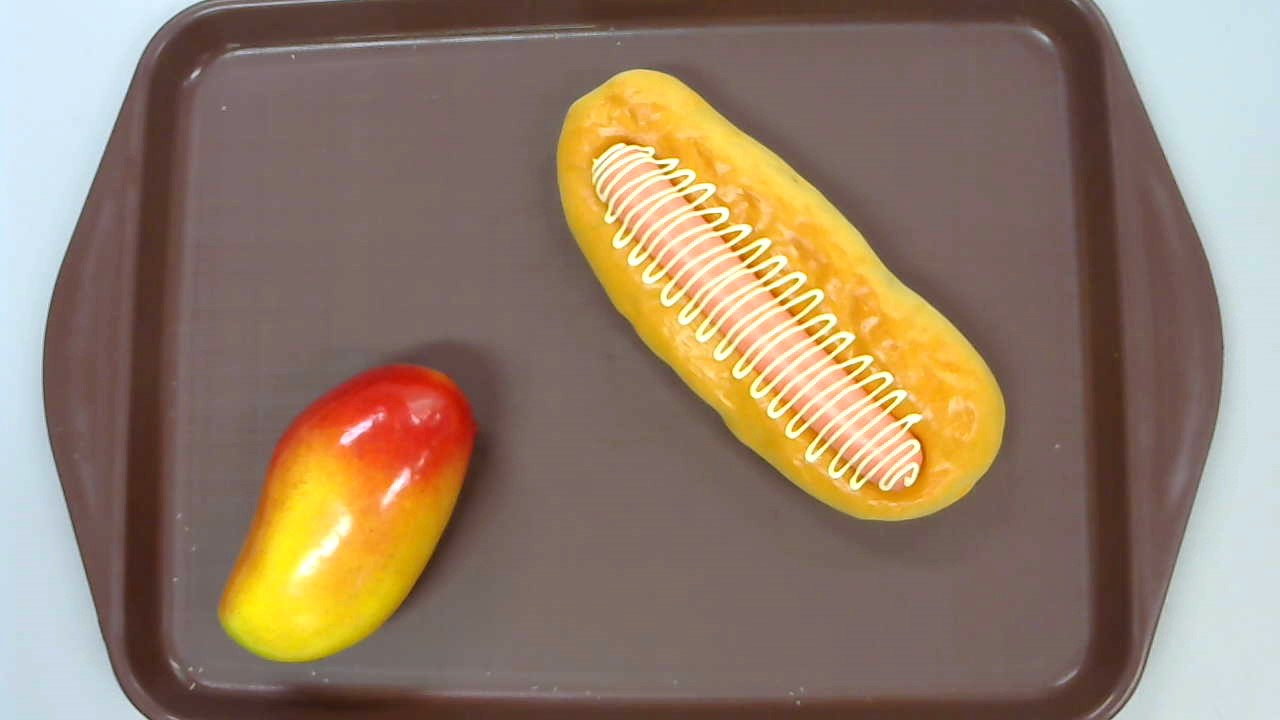hot dog: (557, 63, 1005, 523)
red mango: (216, 362, 478, 663)
